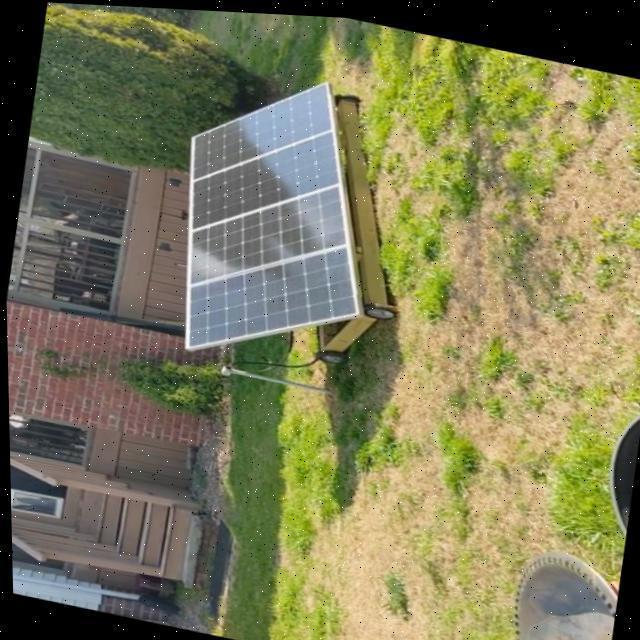Normal Solar Panel: (158, 51, 394, 382)
